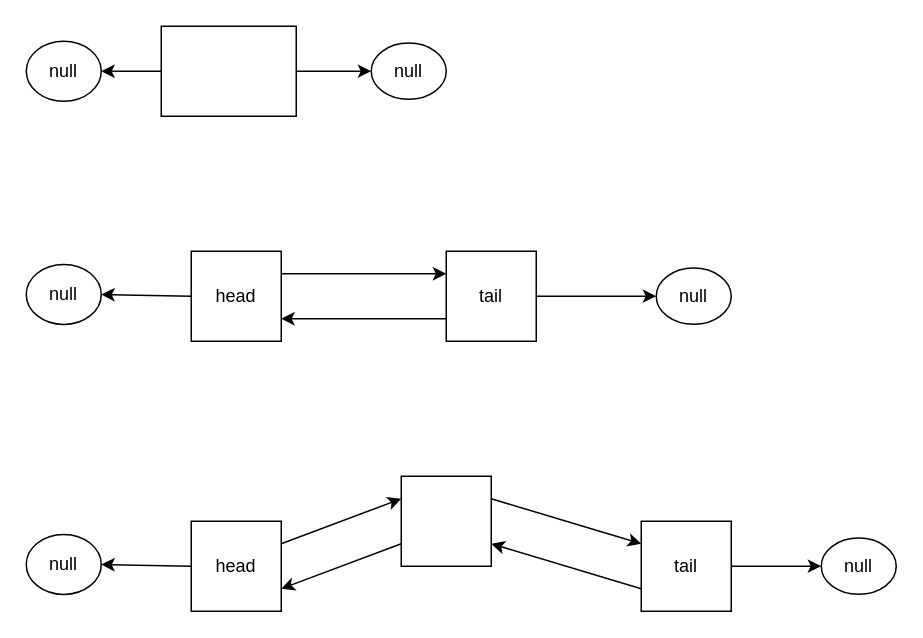
Some shapes in this 923 by 638 pixel diagram are drawn without their labels. The shapes that lost their labels are listed below. From the top down, each one's centre as x and y in pixels, then its label:
At point (228, 70): "head / tail".
At point (445, 520): "node1".
